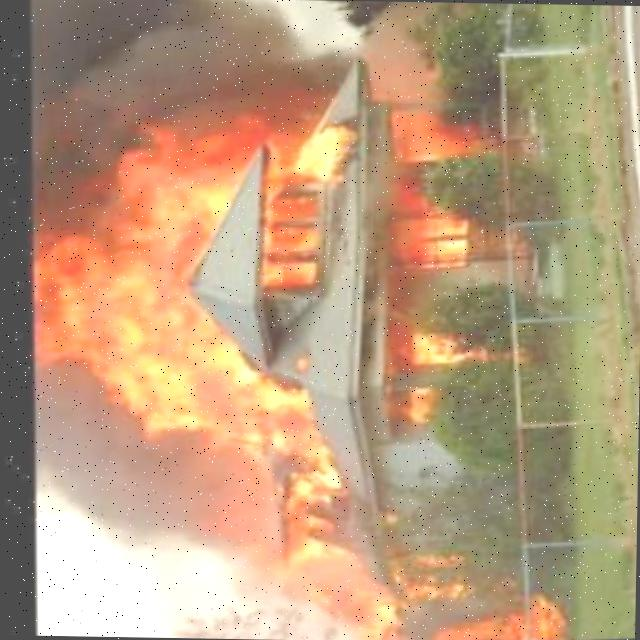fire: (31, 153, 337, 365), (300, 543, 574, 640), (86, 347, 314, 449), (249, 437, 349, 559), (397, 323, 482, 433), (400, 195, 484, 274)
